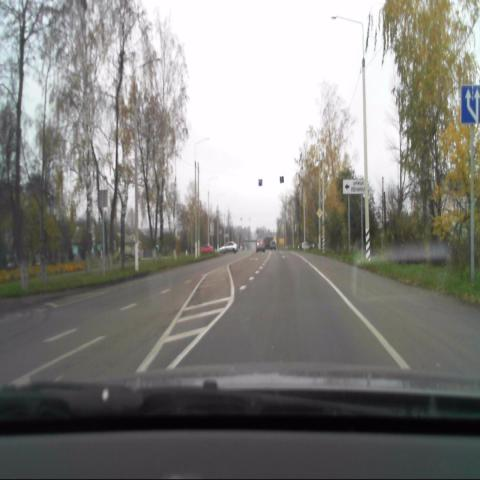5_15_3: (461, 83, 478, 125)
